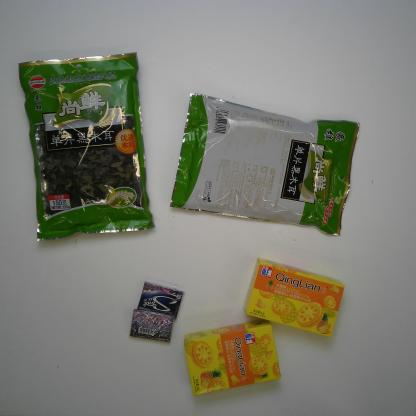Dessert: (242, 254, 345, 338), (182, 318, 282, 398)
Dried Food: (166, 92, 361, 239), (17, 49, 155, 243)
Gum: (137, 280, 185, 322), (127, 309, 174, 344)
